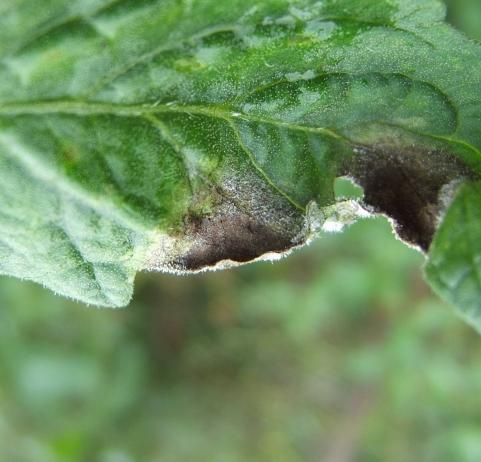Tomato leaf late blight: (0, 0, 481, 329)
